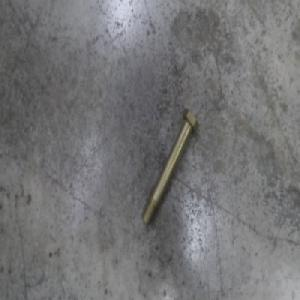Bolt: (141, 106, 198, 227)
